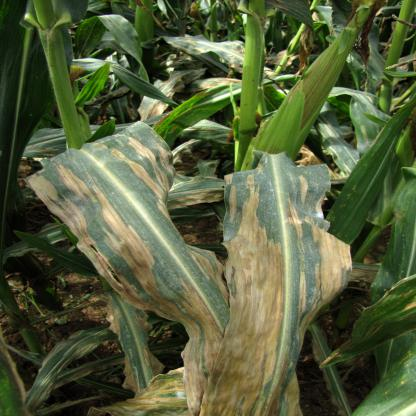corn leaf blight: (27, 143, 218, 412), (214, 162, 339, 416)
